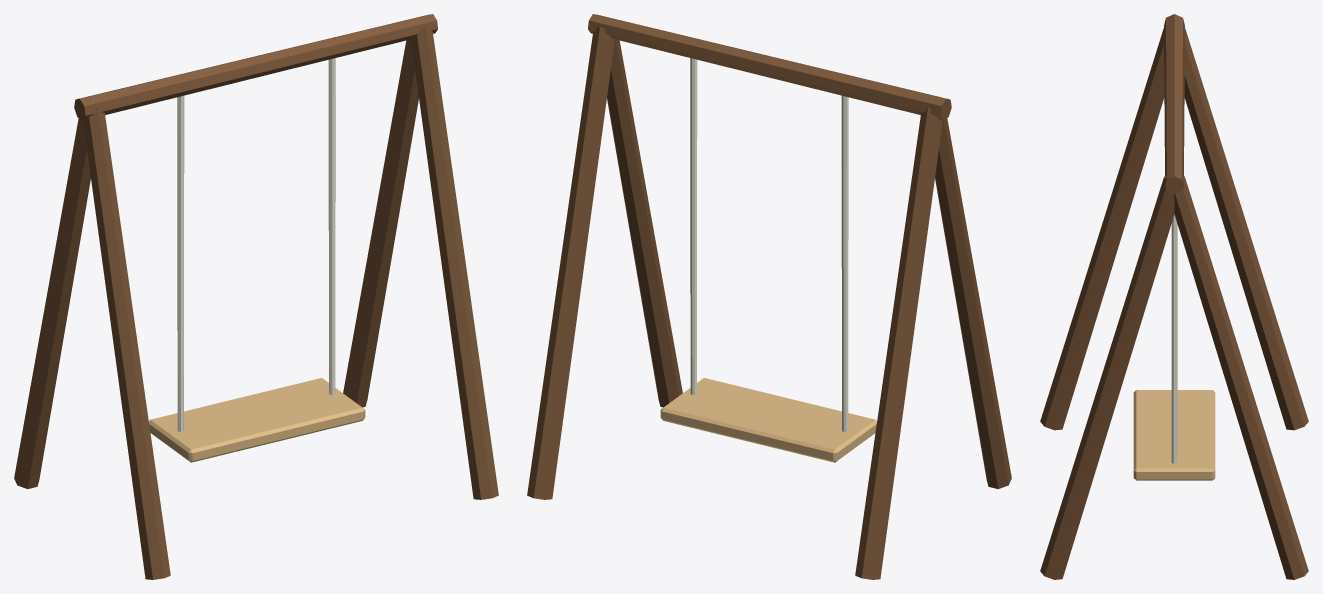
Rendered from CC_WebSwing.fbx.
3 views of the same model, side by side, from view 1: azimuth 30°, elevation 25°; view 2: azimuth 150°, elevation 25°; view 3: azimuth 270°, elevation 25° (orthographic). The views are drawn at different scales.
Visible parts, largest first — view 1: Swing leg.002, Swing leg, CC_WebSwing__Swing_Seat, Swing leg.001, Swing leg.003, Top bar, Silk strand.001, Silk strand; view 2: Swing leg.003, Swing leg.001, CC_WebSwing__Swing_Seat, Swing leg, Swing leg.002, Top bar, Silk strand, Silk strand.001; view 3: Swing leg.002, Swing leg.003, Swing leg, Swing leg.001, CC_WebSwing__Swing_Seat, Top bar, Silk strand.001.
Boxes of the visible parts, x1,y1,x2,y2 form: Swing leg.002: (411, 26, 498, 499); Swing leg: (83, 107, 170, 579); CC_WebSwing__Swing_Seat: (149, 378, 365, 462); Swing leg.001: (14, 118, 90, 489); Swing leg.003: (343, 39, 418, 407); Top bar: (74, 14, 437, 120); Silk strand.001: (328, 58, 335, 395); Silk strand: (177, 95, 184, 431); Swing leg.003: (527, 26, 614, 499); Swing leg.001: (855, 107, 942, 579); CC_WebSwing__Swing_Seat: (660, 378, 876, 462); Swing leg: (935, 118, 1011, 489); Swing leg.002: (607, 39, 682, 407); Top bar: (588, 14, 951, 120); Silk strand: (841, 95, 848, 431); Silk strand.001: (690, 58, 697, 394); Swing leg.002: (1040, 175, 1174, 579); Swing leg.003: (1174, 175, 1308, 579); Swing leg: (1040, 26, 1164, 430); Swing leg.001: (1184, 26, 1308, 430); CC_WebSwing__Swing_Seat: (1133, 390, 1215, 480); Top bar: (1164, 14, 1184, 192); Silk strand.001: (1171, 214, 1177, 463).
Size of the model in its own units: 2.8 by 3.3 by 1.97.
